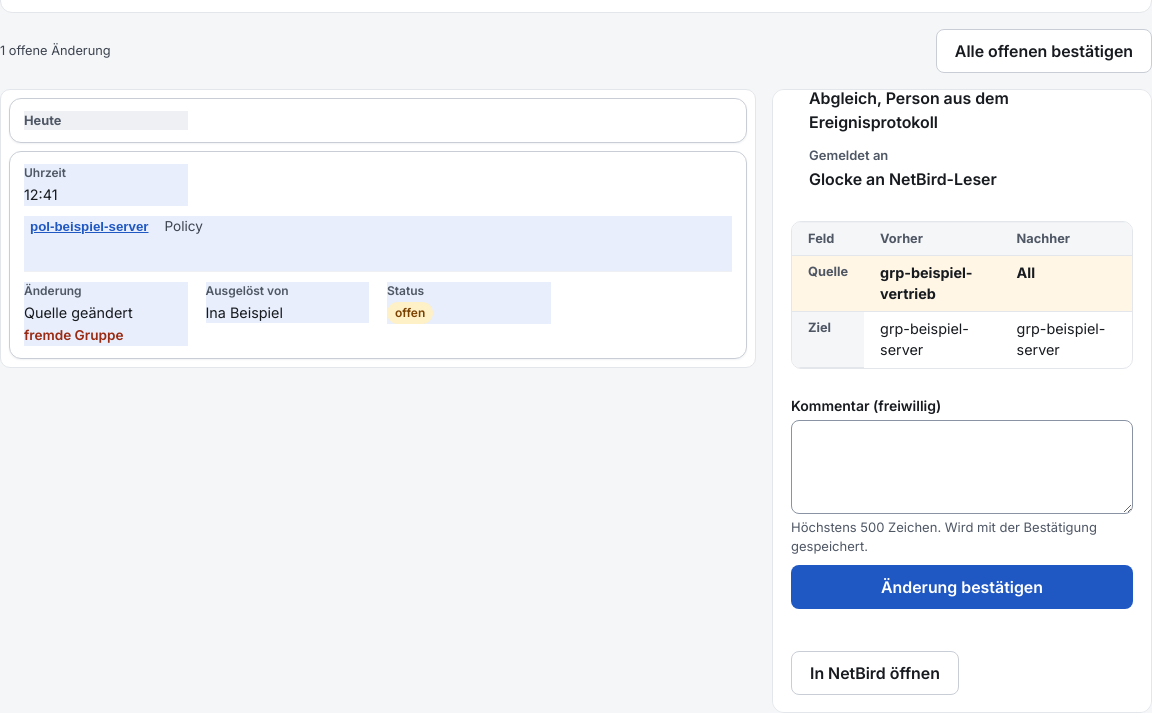
Test: NetBird › zeigt Änderungen nach Tagen, Vorher/Nachher und bestätigt mit Kommentar
(page scrolled)
Expected: the column heading "Heute" is shown, [24, 111, 188, 130]
Expected: the row "pol-beispiel-server" shows "fremde Gruppe", [24, 328, 124, 344]
Type "Gewollt" into the text box labelled "Kommentar (freiwillig)" at (962, 466), box [791, 420, 1133, 514]
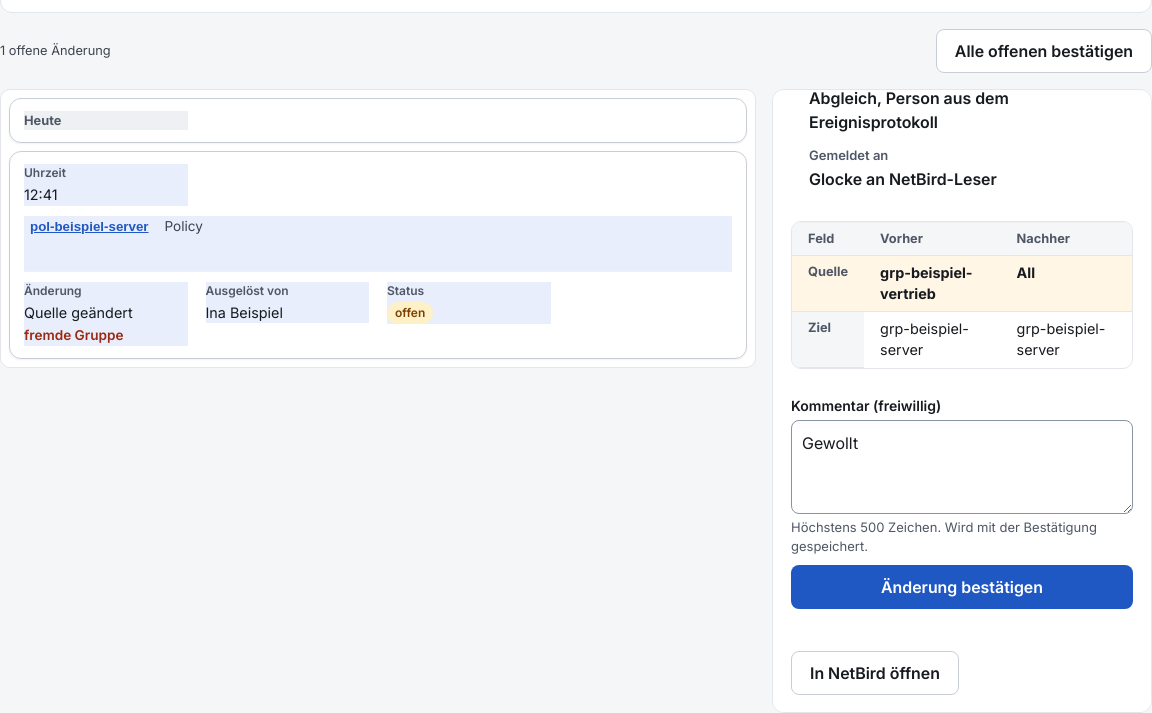
Click the button "Änderung bestätigen" at (962, 586), box [791, 564, 1133, 608]
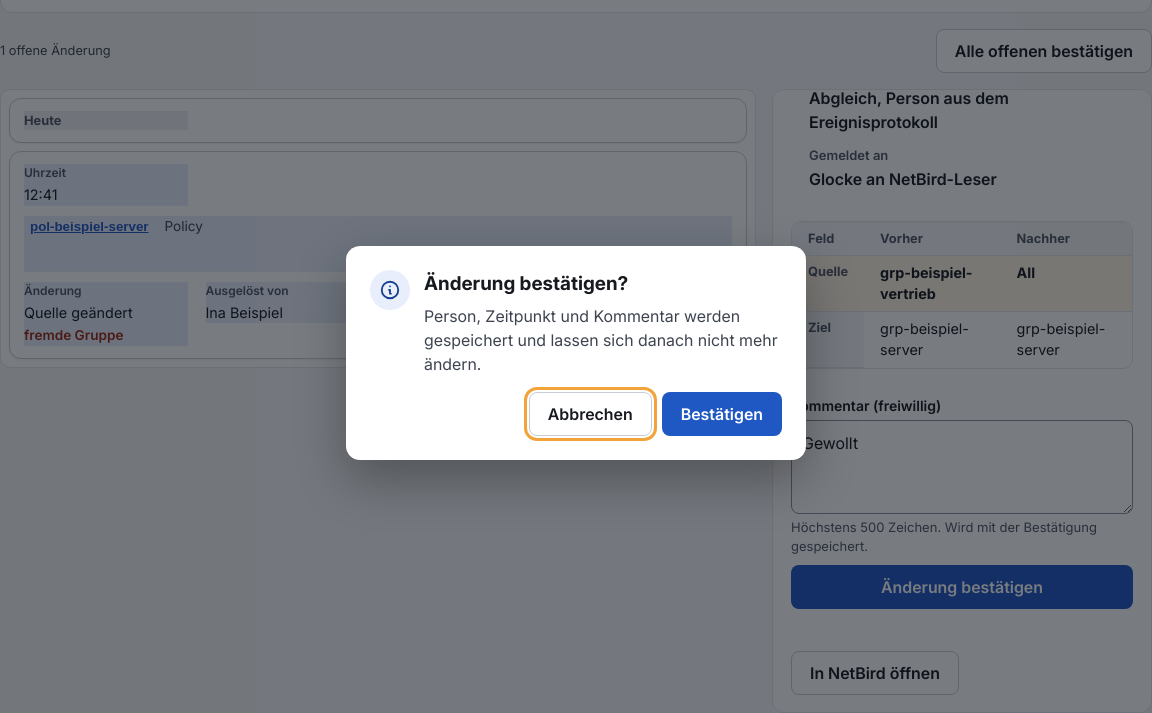
Click the button "Bestätigen" at (722, 414), box [662, 392, 782, 436]
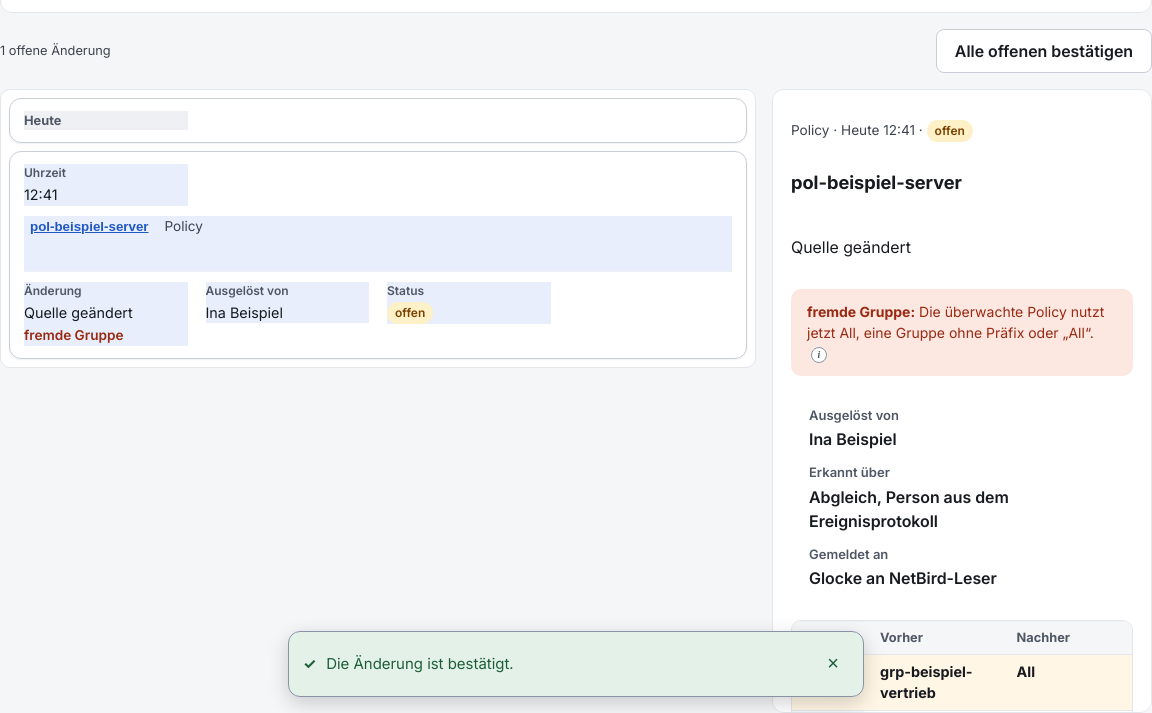
Expected: the text "Die Änderung ist bestätigt." is shown, [326, 654, 514, 672]
